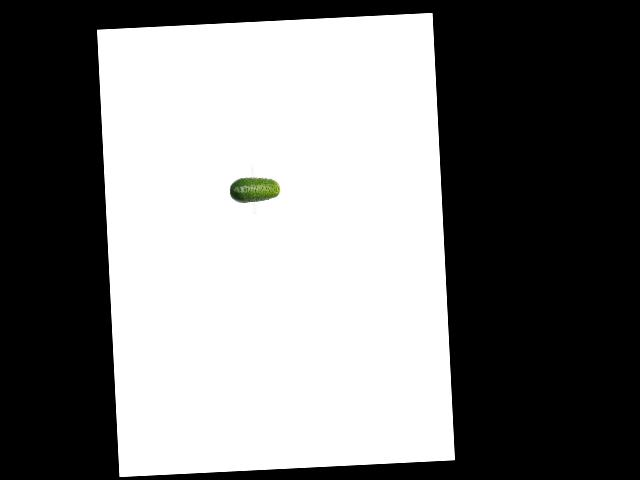cucumber: (228, 175, 280, 203)
